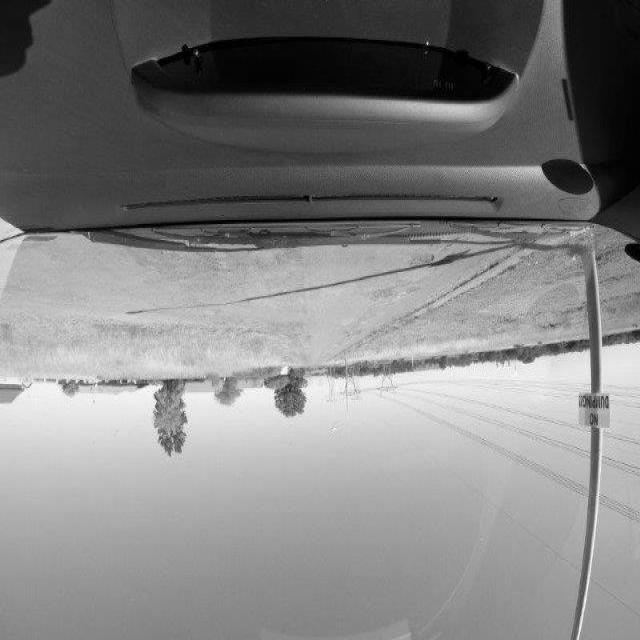lubang: (172, 253, 310, 331), (370, 284, 408, 306), (284, 324, 314, 348), (337, 318, 367, 340), (411, 246, 435, 270)
